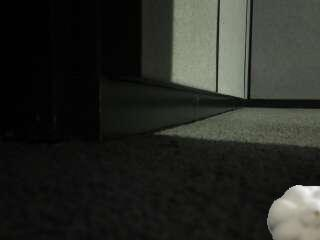Garlic: (265, 181, 320, 240)
